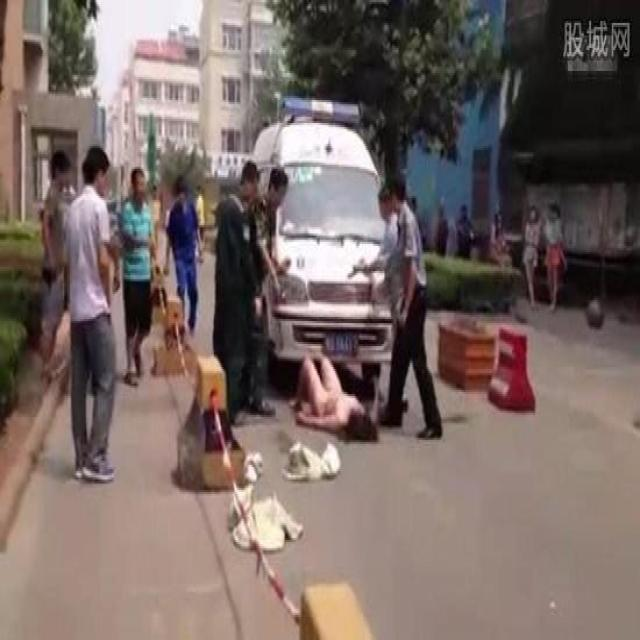10-: (34, 140, 574, 490)
down: (285, 344, 383, 448)
